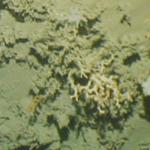alive: (3, 6, 147, 149)
